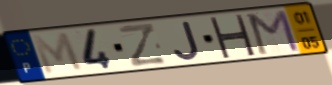4: (80, 26, 117, 72)
H: (206, 14, 257, 59)
J: (172, 19, 203, 61)
M: (245, 8, 302, 57), (29, 31, 87, 77)
Z: (116, 22, 169, 69)
